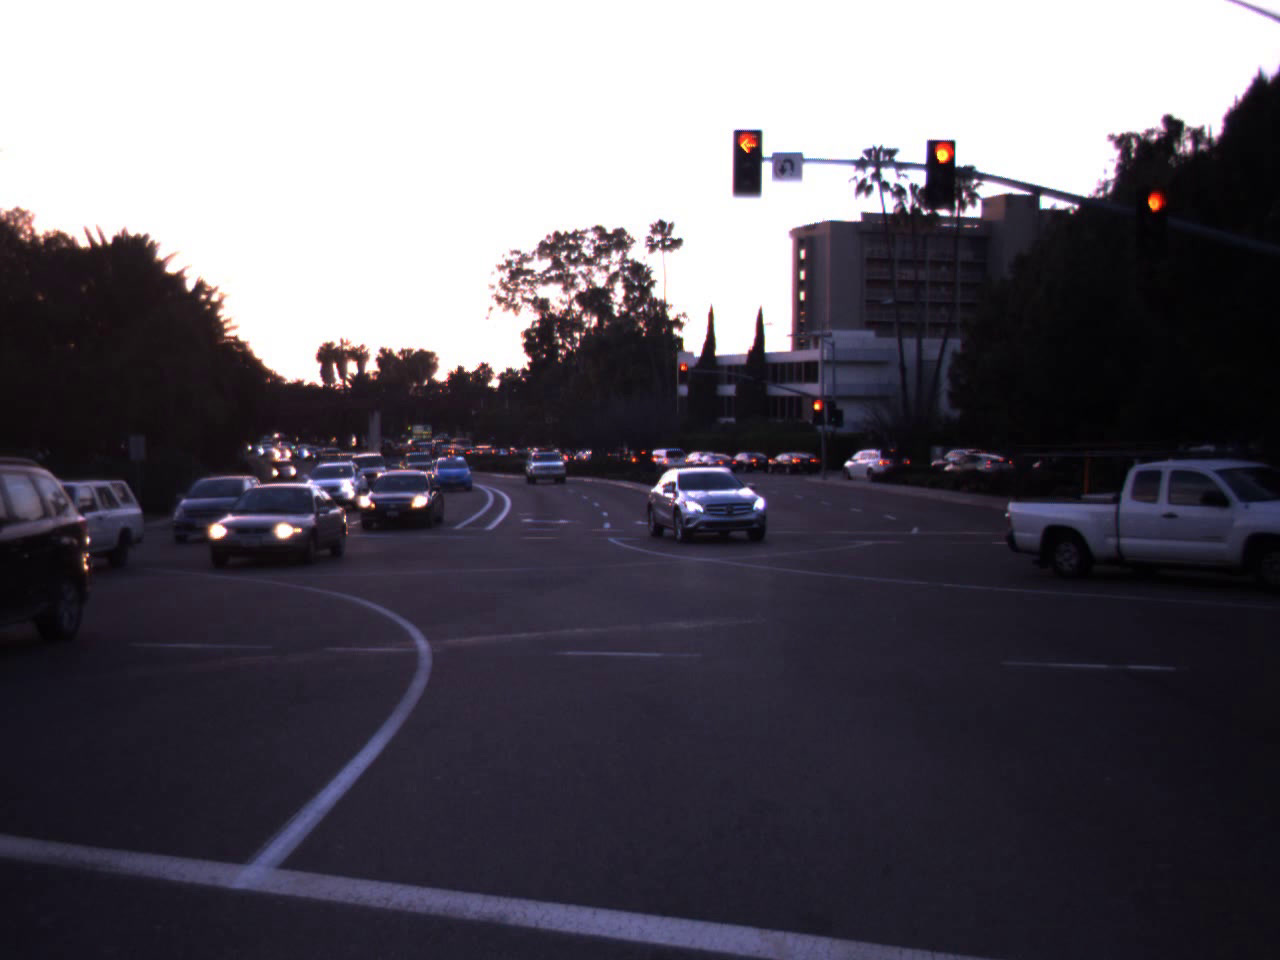stop: (717, 127, 777, 212), (1133, 186, 1178, 262), (923, 136, 962, 217)
